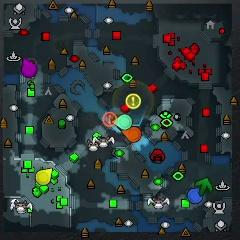Other: (126, 93, 141, 109), (102, 112, 117, 127)
p1: (187, 188, 204, 204)
p2: (113, 114, 133, 130)
p3: (21, 58, 38, 79)
p4: (36, 168, 52, 186)
p5: (121, 127, 141, 142)
x4: (196, 178, 211, 196)
